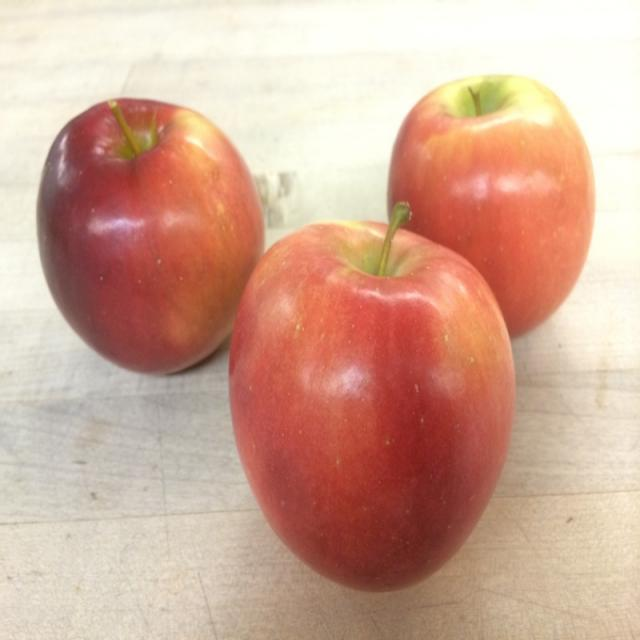Apple: (222, 206, 526, 594), (32, 94, 270, 383), (387, 71, 600, 346)
